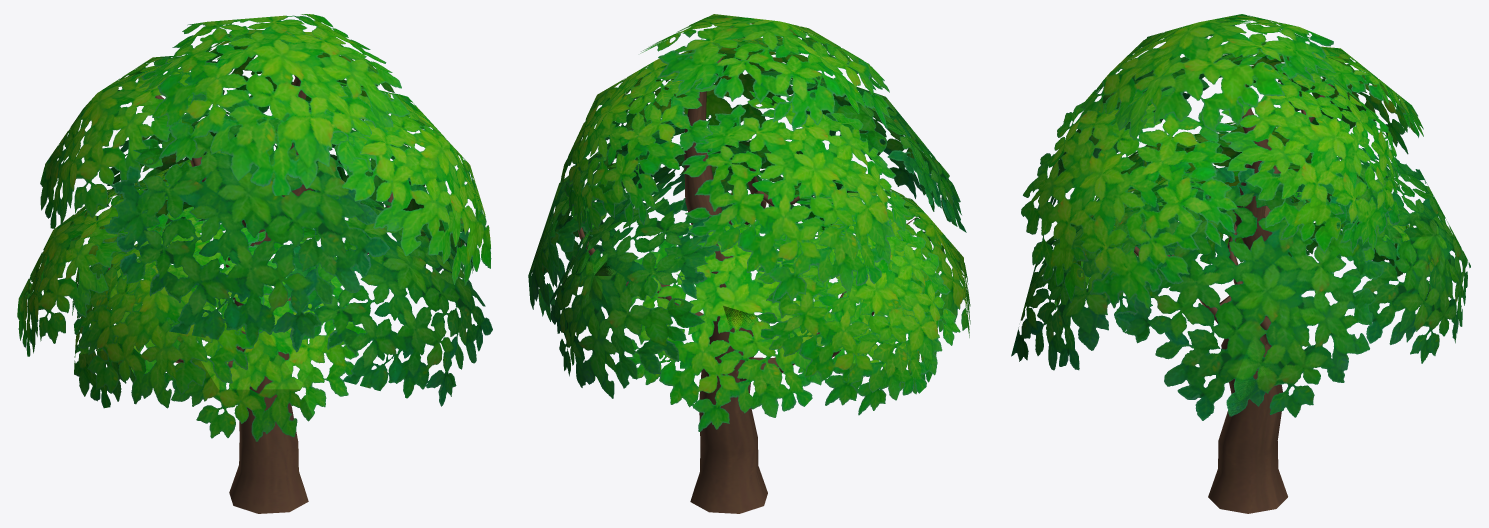
File: zhucheng_longshu_02.FBX
3 renders of one model, left to right at view 1: azimuth 30°, elevation 25°; view 2: azimuth 150°, elevation 25°; view 3: azimuth 270°, elevation 25°, orthographic. The views are drawn at different scales.
Visible parts, largest first — view 1: zhucheng_longshu_02; view 2: zhucheng_longshu_02; view 3: zhucheng_longshu_02.
Part boxes in pixels (x1=…): zhucheng_longshu_02: x1=17, y1=14, x2=492, y2=513; zhucheng_longshu_02: x1=528, y1=14, x2=970, y2=513; zhucheng_longshu_02: x1=1011, y1=14, x2=1470, y2=513.
Size of the model in its own units: 751 by 815 by 750.
